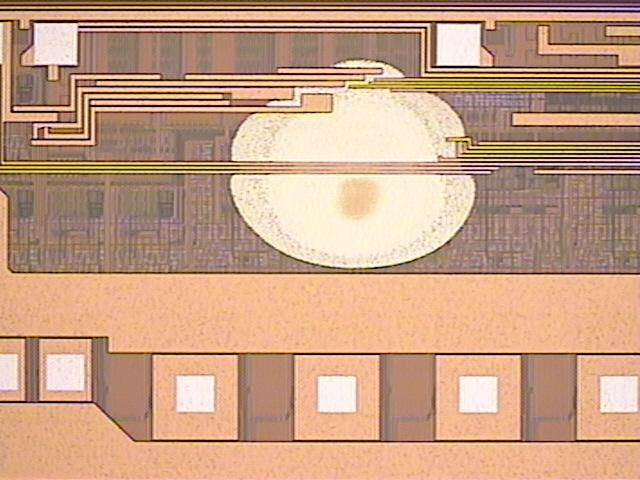BLOCK ETCH: (224, 42, 484, 302)
